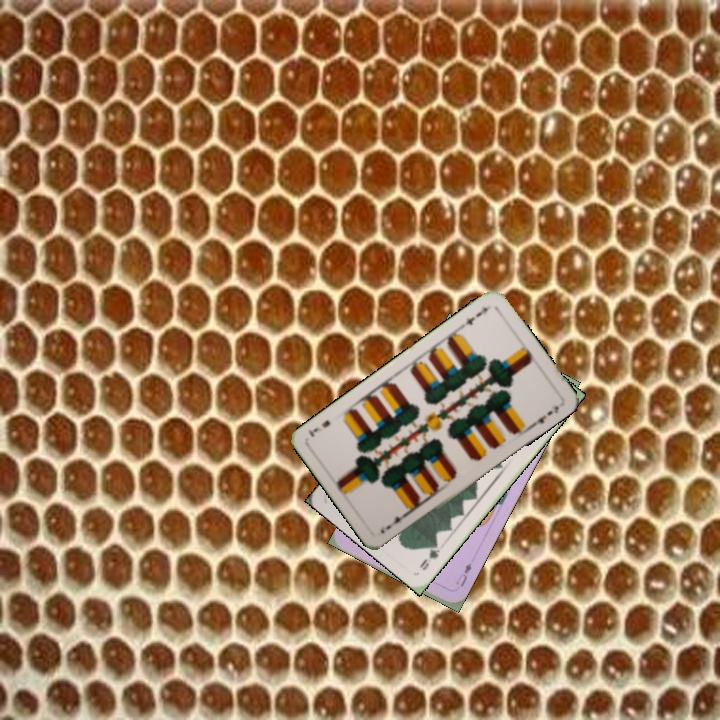E7: (462, 302, 491, 328), (382, 508, 411, 533)
EU: (452, 559, 474, 589)
G9: (415, 538, 443, 573)
